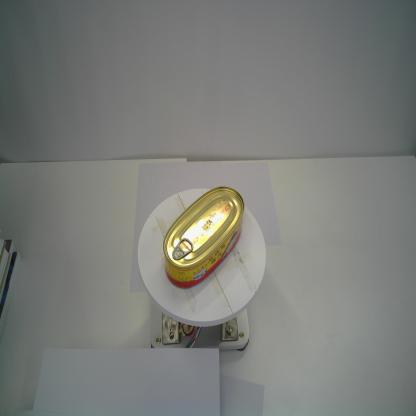Canned Food: (163, 185, 244, 289)
